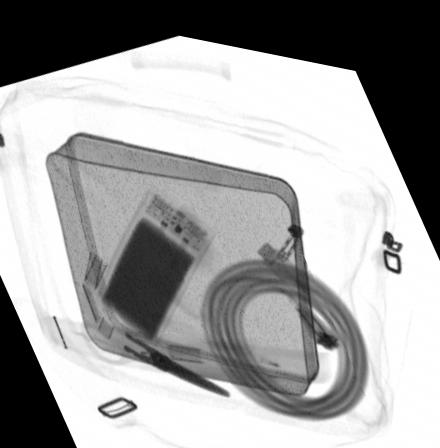Powerbank: (92, 179, 216, 339)
Scissors: (77, 281, 232, 391)
